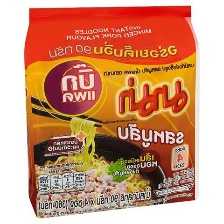snack: (16, 0, 205, 224)
